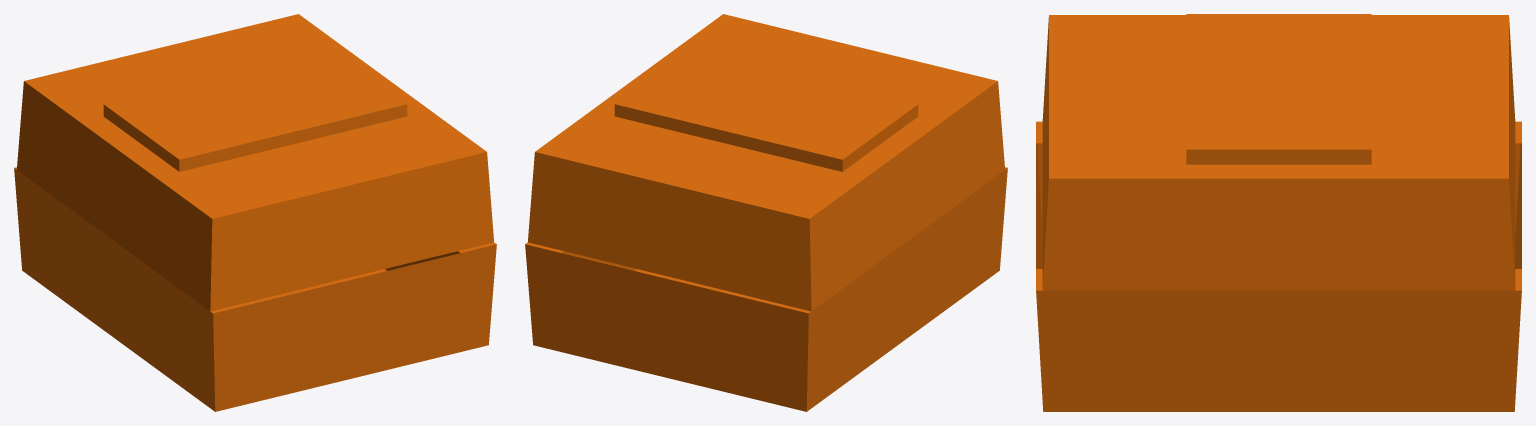
File: zatana_terra_base_vis_121.dae
3 renders of one model, left to right at view 1: azimuth 30°, elevation 25°; view 2: azimuth 150°, elevation 25°; view 3: azimuth 270°, elevation 25°, orthographic. The views are drawn at different scales.
Parts seen in each view (by area): view 1: Node_000002318374BEC0; view 2: Node_000002318374BEC0; view 3: Node_000002318374BEC0.
Boxes of the visible parts, x1,y1,x2,y2 form: Node_000002318374BEC0: (14, 14, 496, 411); Node_000002318374BEC0: (525, 14, 1007, 411); Node_000002318374BEC0: (1036, 14, 1521, 411).
Size of the model in its own units: 0.00307 by 0.00211 by 0.00373.
